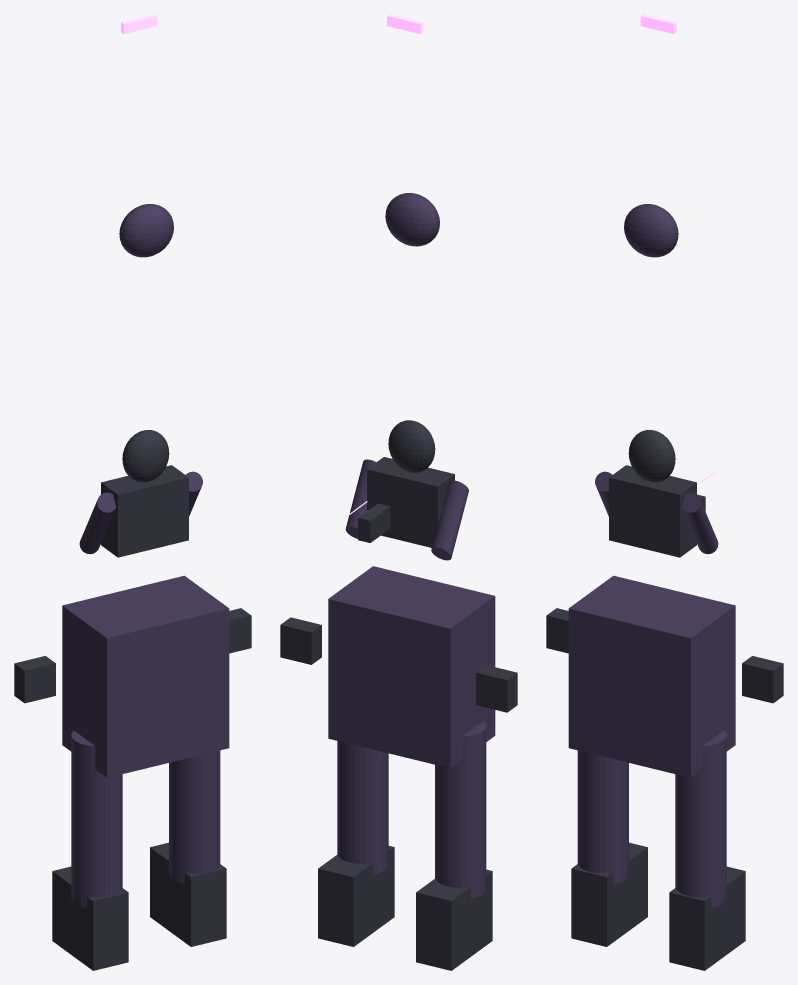
The model's file is CH_ResonanceRifleman_LOD2.glb.
3 views of the same model, side by side, from view 1: azimuth 30°, elevation 25°; view 2: azimuth 150°, elevation 25°; view 3: azimuth 330°, elevation 25° (orthographic).
Visible parts, largest first — view 1: Cube.004, Cylinder, Cylinder.001, Cube.005, Cube, Cube.001, Sphere.001, Sphere, Cube.002, Cylinder.002, Cube.003; view 2: Cube.004, Cylinder, Cylinder.001, Cube, Cube.001, Cube.005, Sphere.001, Sphere, Cube.002, Cube.003, Cylinder.002, Cube.007 (+1 smaller); view 3: Cube.004, Cylinder.001, Cylinder, Cube.005, Cube.001, Cube, Sphere.001, Sphere, Cube.003, Cylinder.003, Cube.002.
Part boxes in pixels (box(x1,y1,x2,y2)): Cube.004: box(62, 575, 229, 777); Cylinder: box(71, 730, 122, 907); Cylinder.001: box(169, 750, 220, 883); Cube.005: box(101, 465, 188, 557); Cube: box(52, 866, 128, 970); Cube.001: box(150, 842, 226, 946); Sphere.001: box(119, 204, 173, 257); Sphere: box(122, 430, 169, 482); Cube.002: box(14, 656, 55, 703); Cylinder.002: box(79, 492, 116, 554); Cube.003: box(229, 608, 251, 653); Cube.004: box(328, 566, 495, 768); Cylinder: box(435, 721, 486, 898); Cylinder.001: box(337, 741, 388, 874); Cube: box(416, 869, 492, 970); Cube.001: box(318, 846, 394, 946); Cube.005: box(367, 457, 454, 547); Sphere.001: box(385, 193, 439, 246); Sphere: box(388, 420, 435, 472); Cube.002: box(476, 665, 517, 712); Cube.003: box(280, 617, 321, 664); Cylinder.002: box(431, 480, 468, 560); Cube.007: box(358, 503, 390, 542); Cube.004: box(568, 575, 735, 777); Cylinder.001: box(675, 730, 726, 907); Cylinder: box(577, 750, 628, 883); Cube.005: box(609, 465, 696, 557); Cube.001: box(669, 866, 745, 970); Cube: box(571, 842, 647, 946); Sphere.001: box(624, 204, 678, 257); Sphere: box(628, 430, 675, 482); Cube.003: box(742, 656, 783, 703); Cylinder.003: box(681, 492, 718, 554); Cube.002: box(546, 608, 568, 653).
Size of what is drawn, in the model's own units: 1.02 by 3.96 by 0.5127.
